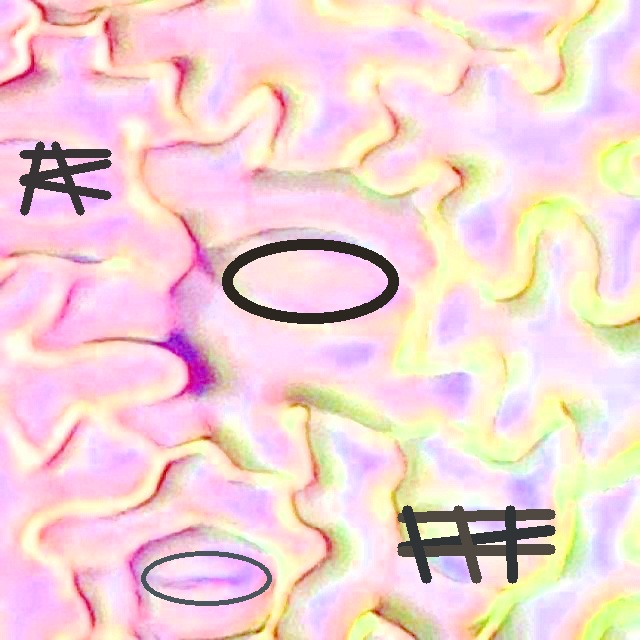close: (221, 240, 399, 323), (398, 506, 555, 582), (19, 141, 111, 215)
open: (140, 550, 273, 606)
